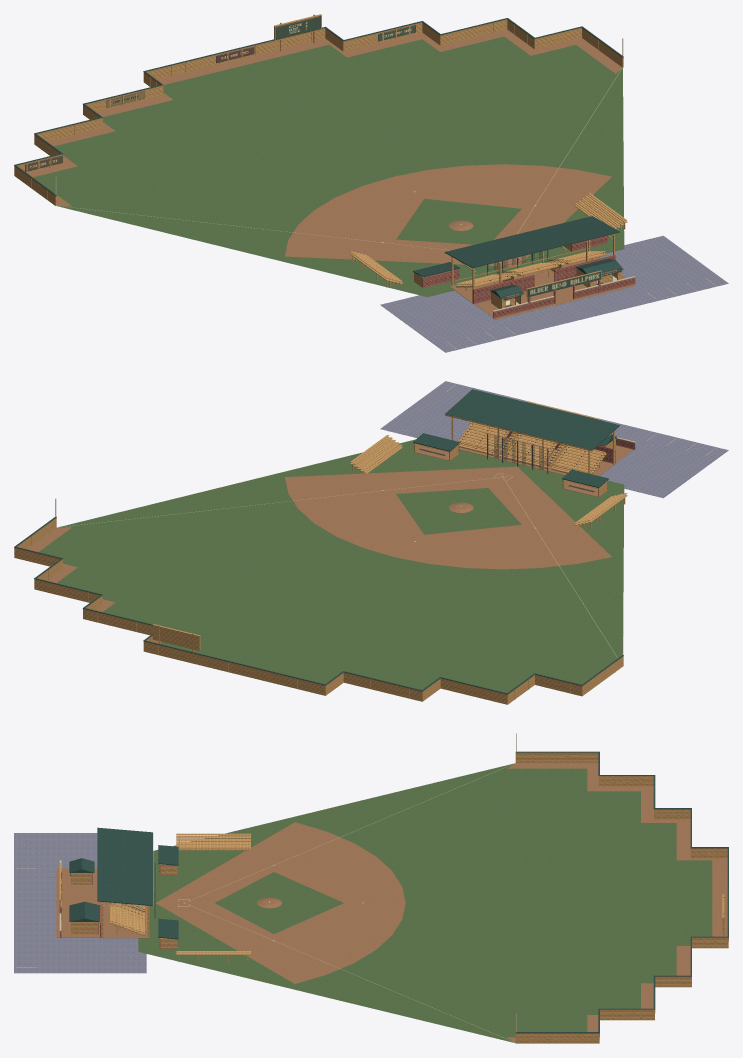
Rendered from alder-bend-1935.glb.
3 views of the same model, one above another, from view 1: azimuth 30°, elevation 25°; view 2: azimuth 150°, elevation 25°; view 3: azimuth 270°, elevation 25° (orthographic).
Visible parts, largest first — view 1: diamond, lot, outfield_fence, grandstand, park_buildings, line_bleachers, sign_name, sign_scoreboard; view 2: diamond, outfield_fence, grandstand, lot, park_buildings, line_bleachers; view 3: diamond, lot, outfield_fence, grandstand, park_buildings, line_bleachers.
Part boxes in pixels (left/top/right/bottom): diamond: left=27, top=29, right=624, bottom=297; lot: left=380, top=235, right=728, bottom=352; outfield_fence: left=14, top=14, right=623, bottom=205; grandstand: left=444, top=216, right=619, bottom=304; park_buildings: left=413, top=235, right=635, bottom=318; line_bleachers: left=350, top=193, right=627, bottom=287; sign_name: left=528, top=271, right=601, bottom=296; sign_scoreboard: left=275, top=16, right=320, bottom=39; diamond: left=27, top=433, right=624, bottom=692; outfield_fence: left=14, top=498, right=623, bottom=704; grandstand: left=444, top=389, right=619, bottom=475; lot: left=380, top=381, right=728, bottom=498; park_buildings: left=413, top=401, right=635, bottom=497; line_bleachers: left=350, top=435, right=627, bottom=529; diamond: left=138, top=763, right=727, bottom=1042; lot: left=14, top=833, right=146, bottom=973; outfield_fence: left=515, top=733, right=728, bottom=1043; grandstand: left=97, top=827, right=153, bottom=938; park_buildings: left=59, top=845, right=178, bottom=948; line_bleachers: left=176, top=833, right=250, bottom=962.
Size of what is drawn, in the model's own units: 144 by 9.38 by 155.
Materials: 10 (10 with a texture image).
